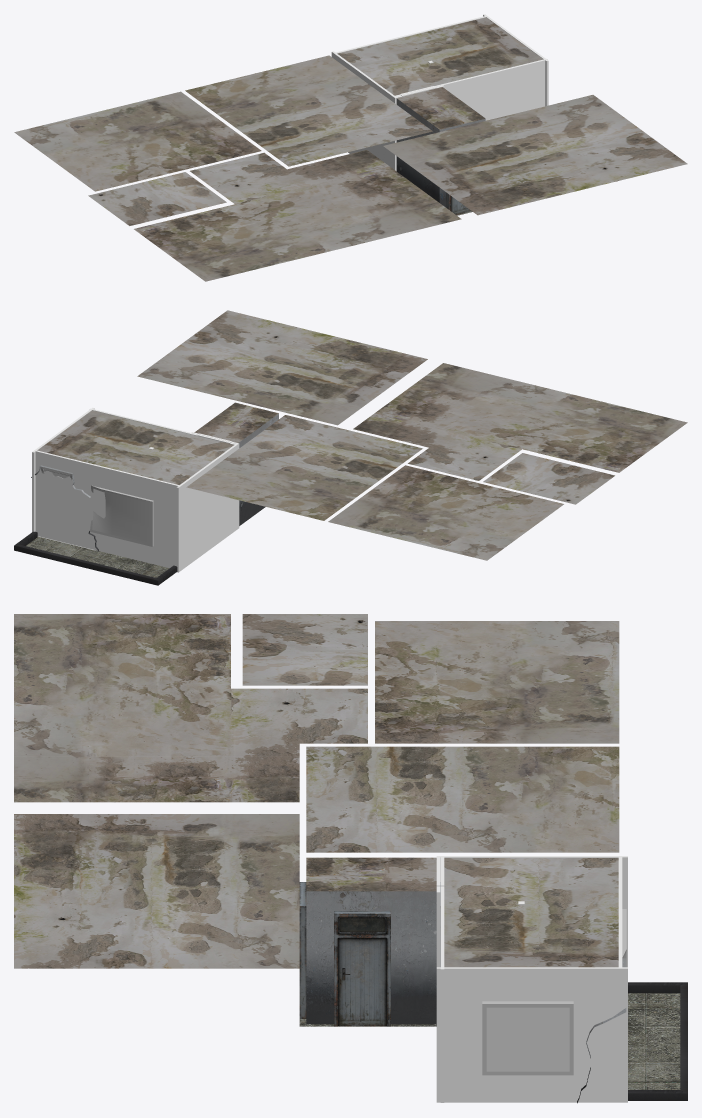
Rendered from Apartment 1_Int.fbx.
The picture shows the model from 3 angles, top to bottom: view 1: azimuth 30°, elevation 25°; view 2: azimuth 150°, elevation 25°; view 3: azimuth 270°, elevation 25°; orthographic projection. The views are drawn at different scales.
Parts seen in each view (by area): view 1: A1_H1_Ceiling, A1_H1_R1_Ceiling, Cube (2), A1_H1_P1_Walls, Cube; view 2: A1_H1_Ceiling, Cube (5), A1_H1_R1_Ceiling, Cube, DamagedDoubleWindow, A1_H1_R1_Floor, A1_H1_R1_Walls, A1_H1_P1_Walls, Cube (1); view 3: A1_H1_Ceiling, A1_H1_R1_Ceiling, Cube (1), A1_H1_P1_Walls, DoubleWindowGrill, A1_H1_R1_Floor, SingleDoor, SingleDoorFrame (×2), A1_H1_R1_Walls, DoubleWindowFrame, Cube (2), Cube.
Part boxes in pixels (x1=…): A1_H1_Ceiling: x1=14, y1=55, x2=687, y2=281; A1_H1_R1_Ceiling: x1=337, y1=17, x2=543, y2=95; Cube (2): x1=435, y1=58, x2=547, y2=120; A1_H1_P1_Walls: x1=396, y1=98, x2=485, y2=207; Cube: x1=331, y1=51, x2=396, y2=171; A1_H1_Ceiling: x1=137, y1=310, x2=687, y2=560; Cube (5): x1=35, y1=450, x2=178, y2=568; A1_H1_R1_Ceiling: x1=37, y1=410, x2=233, y2=484; Cube: x1=176, y1=443, x2=239, y2=572; DamagedDoubleWindow: x1=90, y1=485, x2=153, y2=546; A1_H1_R1_Floor: x1=26, y1=536, x2=169, y2=577; A1_H1_R1_Walls: x1=14, y1=465, x2=177, y2=585; A1_H1_P1_Walls: x1=238, y1=413, x2=278, y2=525; Cube (1): x1=32, y1=407, x2=94, y2=531; A1_H1_Ceiling: x1=14, y1=614, x2=619, y2=968; A1_H1_R1_Ceiling: x1=444, y1=858, x2=618, y2=967; Cube (1): x1=436, y1=967, x2=627, y2=1102; A1_H1_P1_Walls: x1=306, y1=891, x2=436, y2=1023; DoubleWindowGrill: x1=486, y1=1007, x2=569, y2=1071; A1_H1_R1_Floor: x1=628, y1=993, x2=680, y2=1089; SingleDoor: x1=338, y1=938, x2=386, y2=1026; SingleDoorFrame (×2): x1=299, y1=882, x2=390, y2=1026; A1_H1_R1_Walls: x1=577, y1=958, x2=687, y2=1103; DoubleWindowFrame: x1=482, y1=1001, x2=573, y2=1075; Cube (2): x1=440, y1=886, x2=444, y2=1102; Cube: x1=436, y1=856, x2=627, y2=967.
Bounding box in the file's own units: 18.53 × 3.25 × 14.75.
